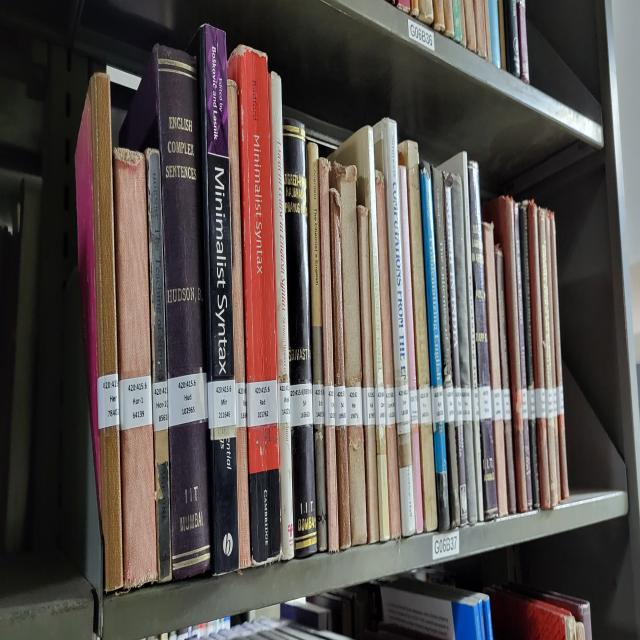Book: (120, 46, 210, 579), (228, 46, 281, 565), (190, 24, 239, 574), (330, 127, 390, 541), (75, 73, 122, 590), (112, 149, 156, 587), (374, 119, 415, 536), (440, 152, 484, 522), (282, 119, 318, 557), (399, 141, 438, 530), (330, 162, 368, 544), (269, 73, 294, 560), (145, 149, 171, 582), (228, 81, 251, 568), (468, 162, 498, 519), (431, 168, 460, 528), (375, 170, 401, 538), (451, 173, 478, 522), (442, 170, 468, 525), (399, 165, 424, 533), (420, 162, 448, 482), (308, 143, 328, 552), (329, 187, 351, 549), (319, 160, 339, 552), (356, 206, 379, 544)
Label: (168, 371, 206, 427), (119, 376, 152, 430), (246, 379, 278, 427), (208, 379, 236, 427), (98, 373, 119, 430), (290, 381, 312, 427), (152, 381, 169, 433), (395, 384, 410, 436), (345, 387, 362, 427), (431, 384, 445, 430), (278, 381, 291, 425), (236, 381, 248, 427), (312, 384, 325, 425), (418, 387, 432, 425), (334, 384, 346, 427), (362, 387, 375, 425), (324, 384, 335, 425), (375, 387, 386, 425), (385, 387, 396, 425), (444, 387, 455, 422), (410, 390, 419, 425)
